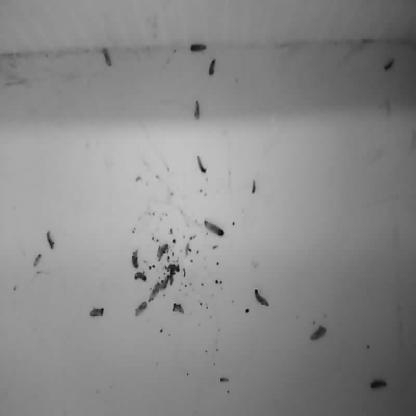PtecticusTenebrifer: (204, 219, 225, 237), (254, 288, 271, 308), (310, 325, 327, 345), (370, 378, 388, 392), (88, 307, 107, 320), (46, 228, 56, 252), (149, 280, 159, 304), (102, 47, 113, 68), (195, 154, 207, 173), (190, 42, 208, 54), (157, 242, 169, 260), (135, 301, 148, 317), (130, 249, 139, 270), (33, 253, 43, 271), (134, 271, 148, 283), (209, 58, 216, 78), (218, 375, 230, 386), (196, 100, 200, 122)
